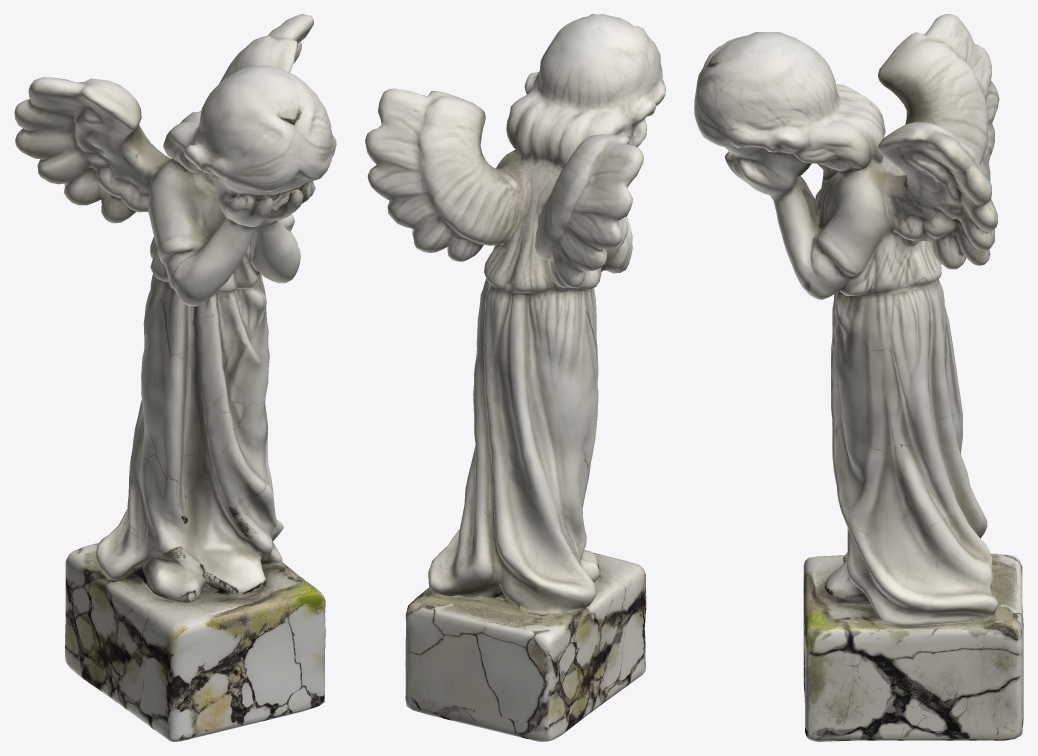
File: estate_broken_angel.glb
The picture shows the model from 3 angles, left to right: view 1: azimuth 30°, elevation 25°; view 2: azimuth 150°, elevation 25°; view 3: azimuth 270°, elevation 25°; orthographic projection. The views are drawn at different scales.
Size of the model in its own units: 0.8871 by 2 by 0.8912.
Materials: 1 (1 with a texture image).
